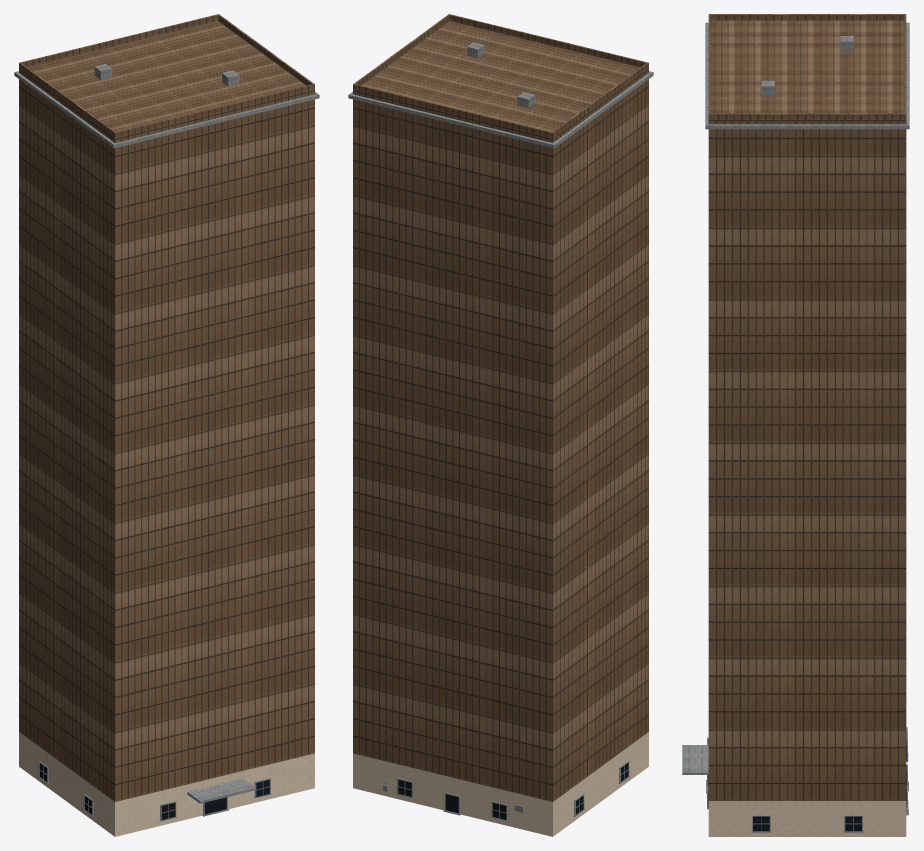
File: jefferson-court-tower_lod0.gltf
The picture shows the model from 3 angles, left to right: view 1: azimuth 30°, elevation 25°; view 2: azimuth 150°, elevation 25°; view 3: azimuth 270°, elevation 25°; orthographic projection. The views are drawn at different scales.
Parts seen in each view (by area): view 1: jefferson-court-tower_upper, jefferson-court-tower_base, jefferson-court-tower__cornice, jefferson-court-tower__parapet_front, jefferson-court-tower__parapet_back, jefferson-court-tower_fen_07-glass-curtain-blue_1_t, jefferson-court-tower__canopy, jefferson-court-tower__parapet_left, jefferson-court-tower__parapet_right, jefferson-court-tower_fen_14-steel-panel_0; view 2: jefferson-court-tower_upper, jefferson-court-tower_base, jefferson-court-tower__cornice, jefferson-court-tower__parapet_back, jefferson-court-tower__parapet_front, jefferson-court-tower_fen_07-glass-curtain-blue_1_t, jefferson-court-tower_fen_14-steel-panel_0, jefferson-court-tower__parapet_left, jefferson-court-tower__parapet_right; view 3: jefferson-court-tower_upper, jefferson-court-tower_base, jefferson-court-tower__cornice, jefferson-court-tower__parapet_right, jefferson-court-tower__parapet_left, jefferson-court-tower__canopy, jefferson-court-tower_fen_07-glass-curtain-blue_1_t, jefferson-court-tower_fen_14-steel-panel_0.
Part boxes in pixels (x1,y1,x2,y2): jefferson-court-tower_upper: (19,21,314,801); jefferson-court-tower_base: (19,732,314,836); jefferson-court-tower__cornice: (14,71,319,148); jefferson-court-tower__parapet_front: (114,84,314,138); jefferson-court-tower__parapet_back: (19,14,219,68); jefferson-court-tower_fen_07-glass-curtain-blue_1_t: (39,763,269,819); jefferson-court-tower__canopy: (187,778,255,803); jefferson-court-tower__parapet_left: (19,63,115,137); jefferson-court-tower__parapet_right: (218,14,313,85); jefferson-court-tower_fen_14-steel-panel_0: (38,761,271,821); jefferson-court-tower_upper: (353,21,648,801); jefferson-court-tower_base: (353,732,648,836); jefferson-court-tower__cornice: (348,71,653,148); jefferson-court-tower__parapet_back: (353,84,553,138); jefferson-court-tower__parapet_front: (448,14,648,68); jefferson-court-tower_fen_07-glass-curtain-blue_1_t: (398,763,628,819); jefferson-court-tower_fen_14-steel-panel_0: (383,761,629,821); jefferson-court-tower__parapet_left: (552,63,648,137); jefferson-court-tower__parapet_right: (354,14,449,85); jefferson-court-tower_upper: (708,20,906,800); jefferson-court-tower_base: (708,801,906,836); jefferson-court-tower__cornice: (705,22,909,129); jefferson-court-tower__parapet_right: (710,113,904,120); jefferson-court-tower__parapet_left: (710,14,904,20); jefferson-court-tower__canopy: (682,745,708,774); jefferson-court-tower_fen_07-glass-curtain-blue_1_t: (708,739,906,831); jefferson-court-tower_fen_14-steel-panel_0: (707,727,908,832).
Bounding box in the file's own units: 37 × 122 × 34.5.
